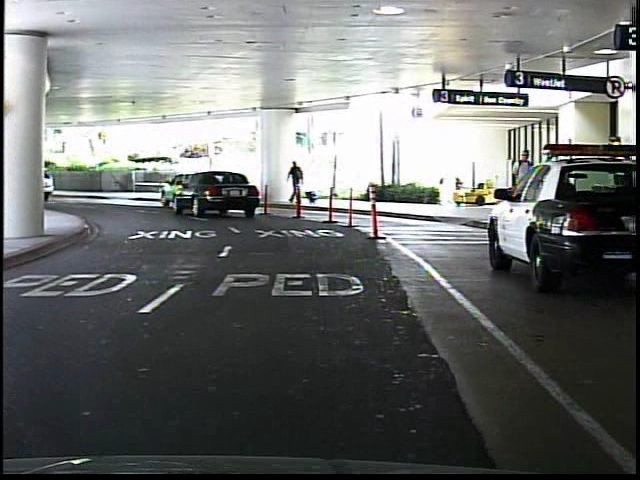person: (508, 145, 535, 229), (284, 160, 312, 209)
